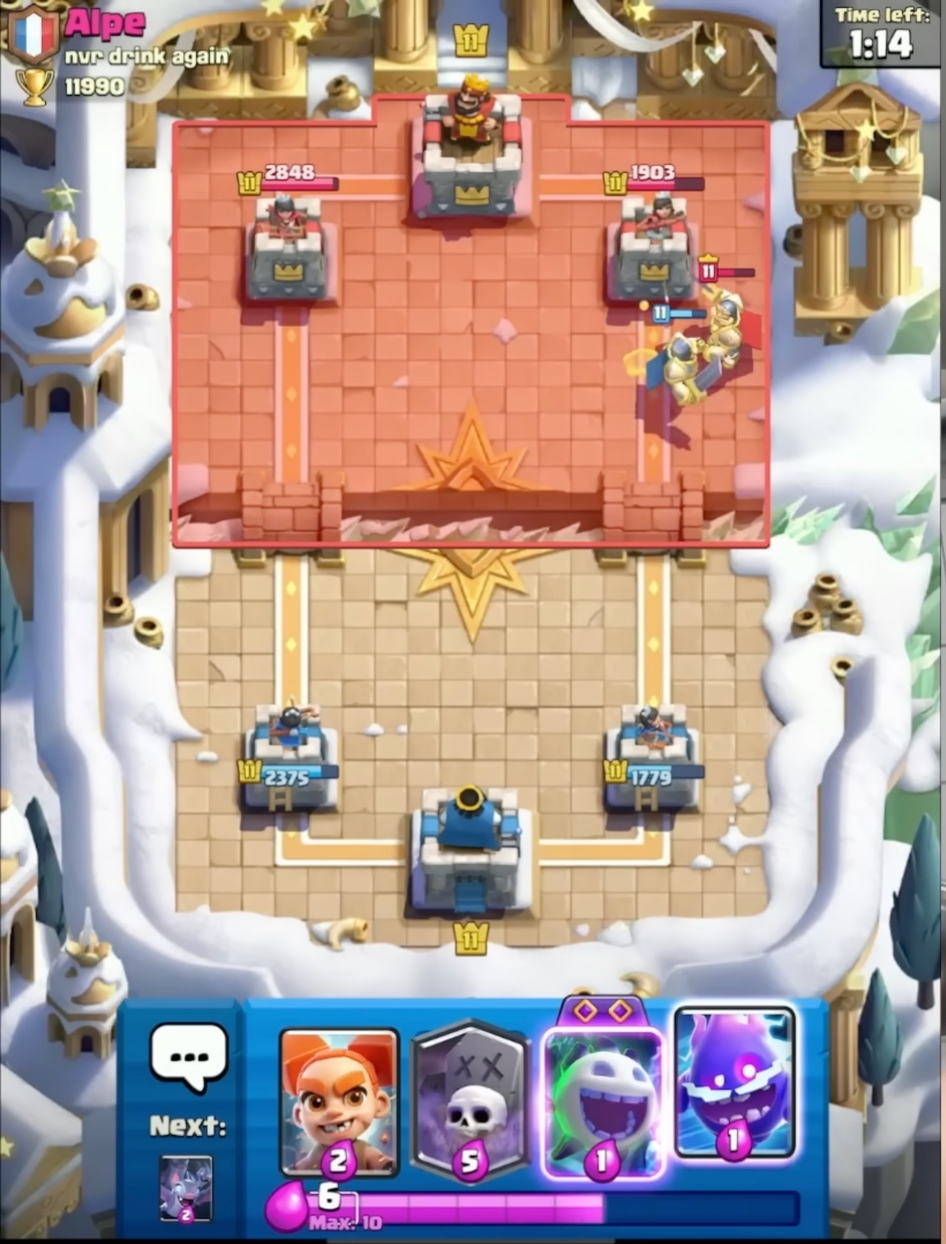hero-knight: (684, 249, 768, 386)
